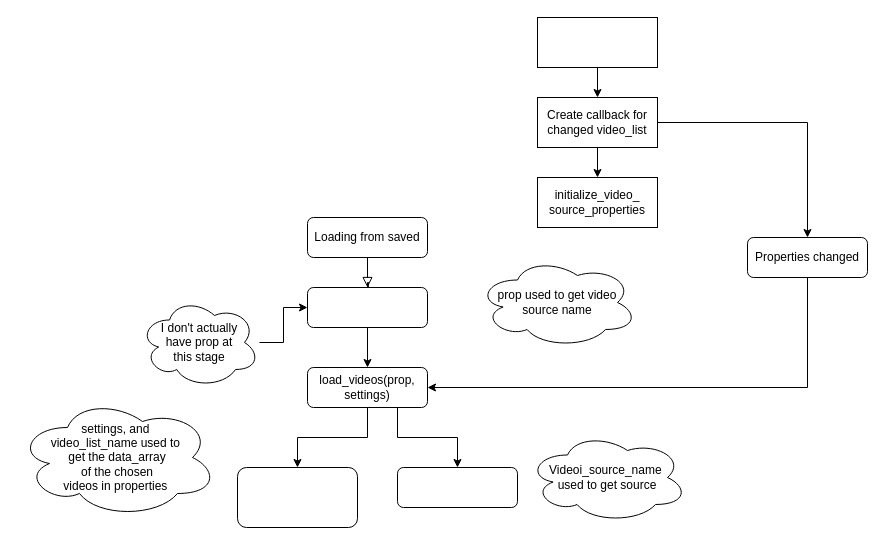
The diagram is 885 pixels wide and 545 high, and some of its shapes have lost their labels. Each missing label, with the box of its shape:
get_full_video_list (settings, video_list_name): (236, 466, 358, 528)
get_used_video_list (video_source_name): (396, 466, 518, 508)
initiate(settings): (306, 286, 428, 328)
Properties loading: (536, 16, 658, 68)
